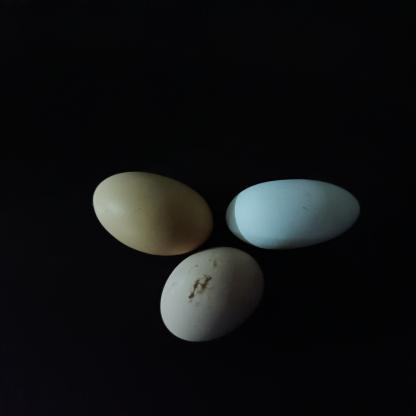egg: (218, 171, 372, 261), (92, 158, 222, 264), (170, 238, 275, 354)
